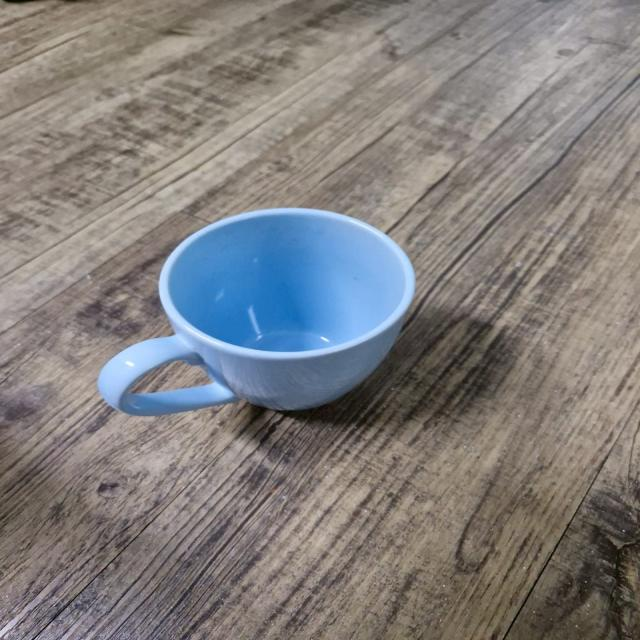plastic cup: (98, 213, 414, 416)
